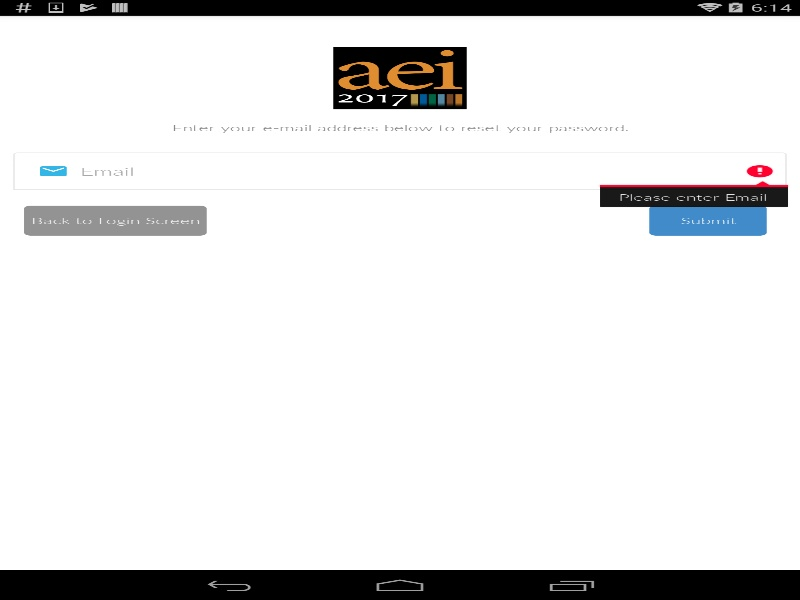Button: (24, 205, 206, 235), (649, 205, 766, 235)
Input: (13, 152, 786, 190)
